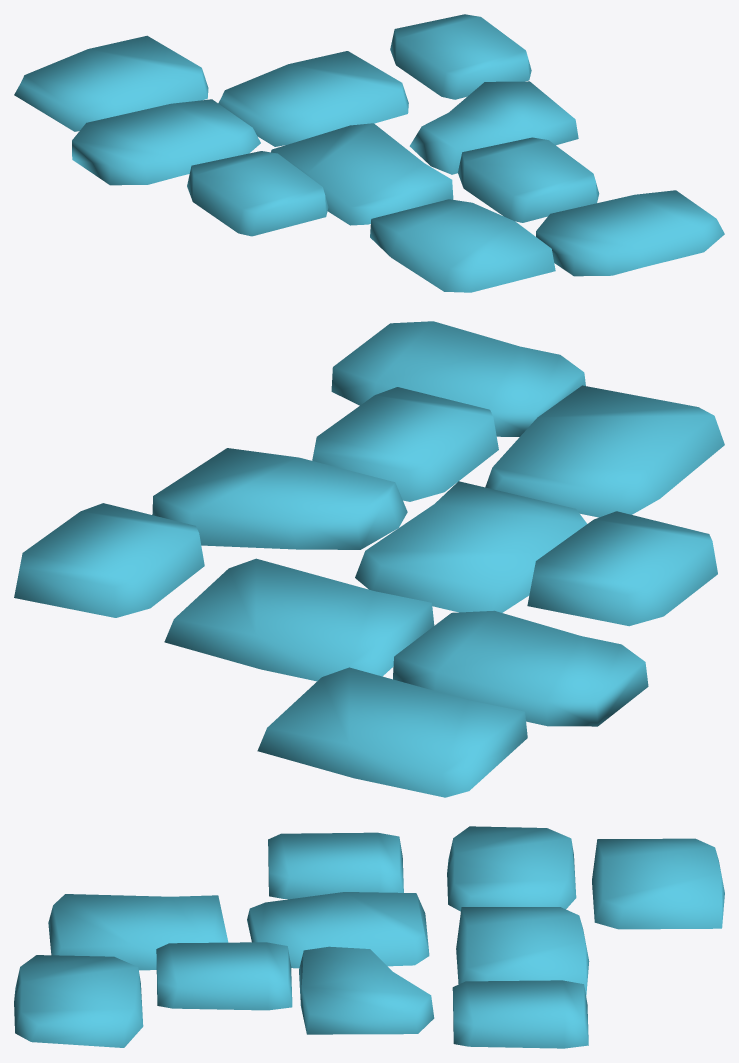
Rendered from group_stone_02.FBX.
The picture shows the model from 3 angles, top to bottom: view 1: azimuth 30°, elevation 25°; view 2: azimuth 150°, elevation 25°; view 3: azimuth 270°, elevation 25°; orthographic projection. The views are drawn at different scales.
Parts seen in each view (by area): view 1: group_stone_02; view 2: group_stone_02; view 3: group_stone_02.
Part boxes in pixels (<box>): group_stone_02: <box>14,14,724,292</box>; group_stone_02: <box>14,321,724,797</box>; group_stone_02: <box>14,826,724,1048</box>.
Size of the model in its own units: 58.58 by 4.5 by 82.48.
